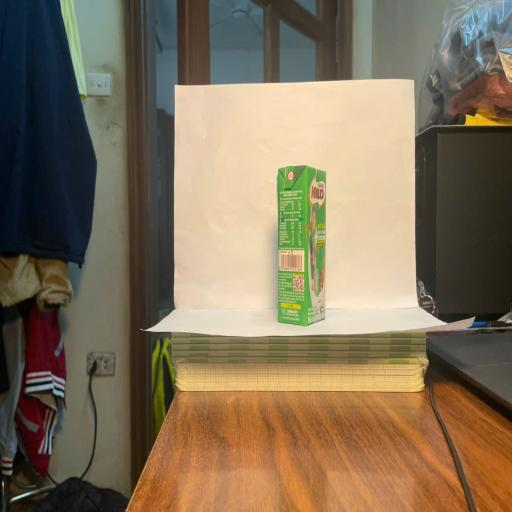milo: (278, 164, 325, 326)
